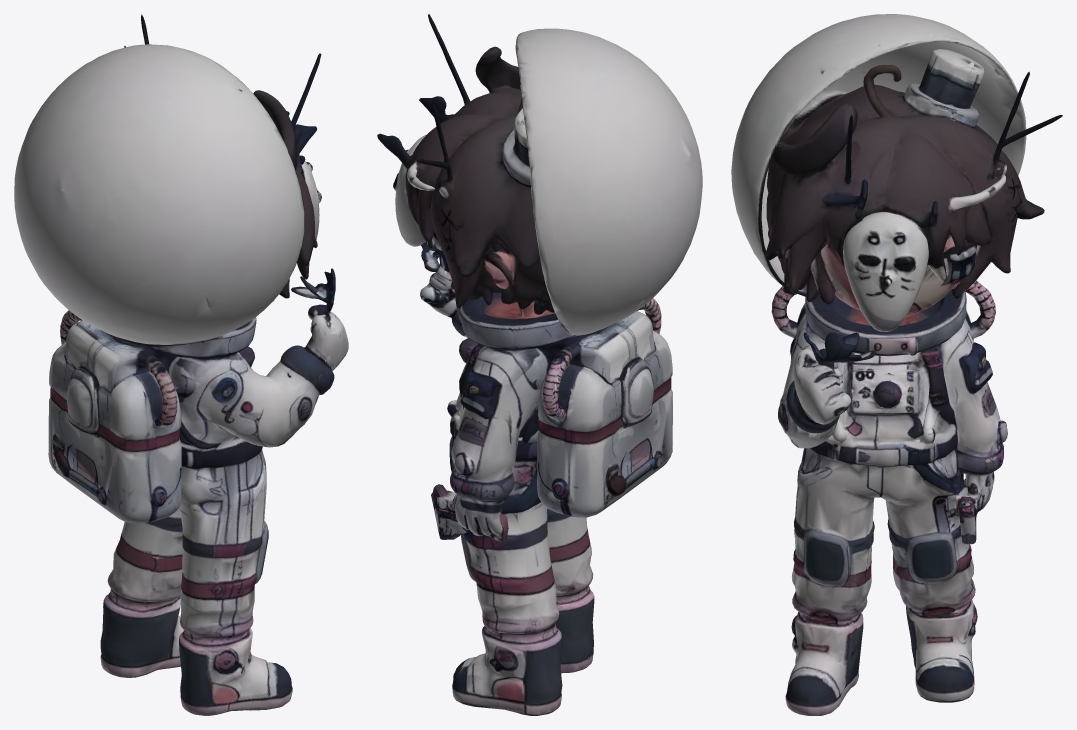
File: chen-jiangluan-astronaut.glb
The picture shows the model from 3 angles, left to right: view 1: azimuth 30°, elevation 25°; view 2: azimuth 150°, elevation 25°; view 3: azimuth 270°, elevation 25°; orthographic projection. The views are drawn at different scales.
Parts seen in each view (by area): view 1: tripo_node_5019417f-f7eb-49b7-b98e-e6cc430d6824; view 2: tripo_node_5019417f-f7eb-49b7-b98e-e6cc430d6824; view 3: tripo_node_5019417f-f7eb-49b7-b98e-e6cc430d6824.
Part boxes in pixels (x1,y1,x2,y2): tripo_node_5019417f-f7eb-49b7-b98e-e6cc430d6824: (14,14,348,715); tripo_node_5019417f-f7eb-49b7-b98e-e6cc430d6824: (377,14,702,715); tripo_node_5019417f-f7eb-49b7-b98e-e6cc430d6824: (731,14,1062,715).
Bounding box in the file's own units: 0.4677 × 0.9995 × 0.4644.
Materials: 1 (1 with a texture image).
